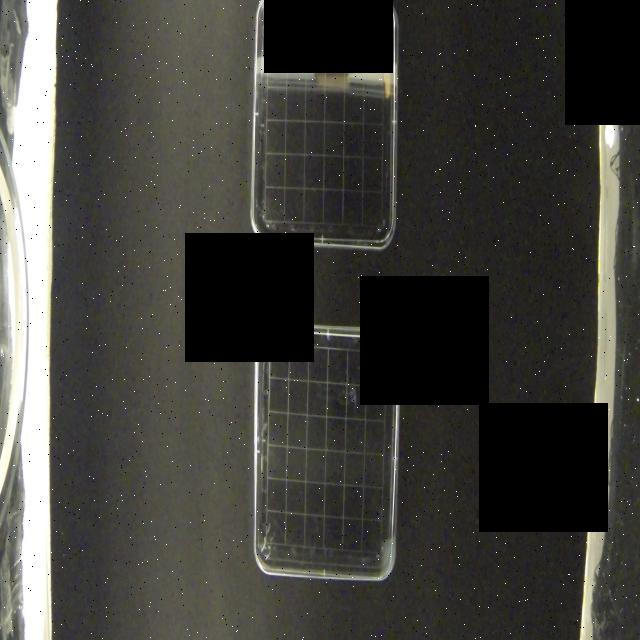larva: (272, 329, 306, 357), (380, 34, 393, 99)
